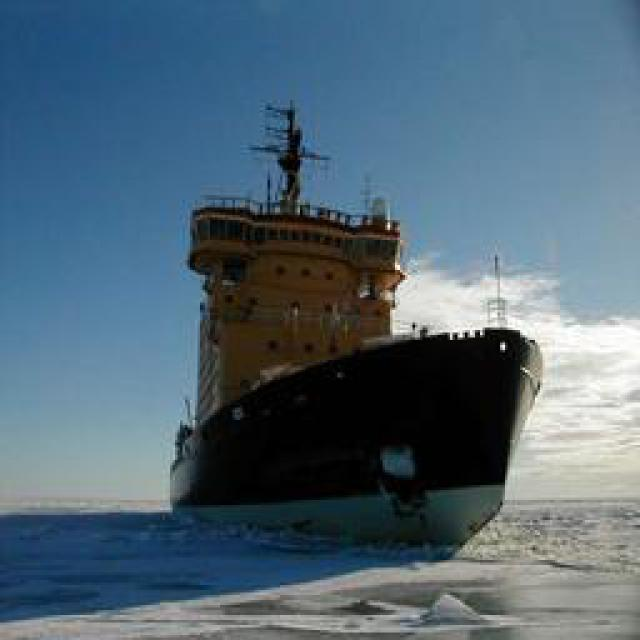Ship: (168, 98, 548, 562)
